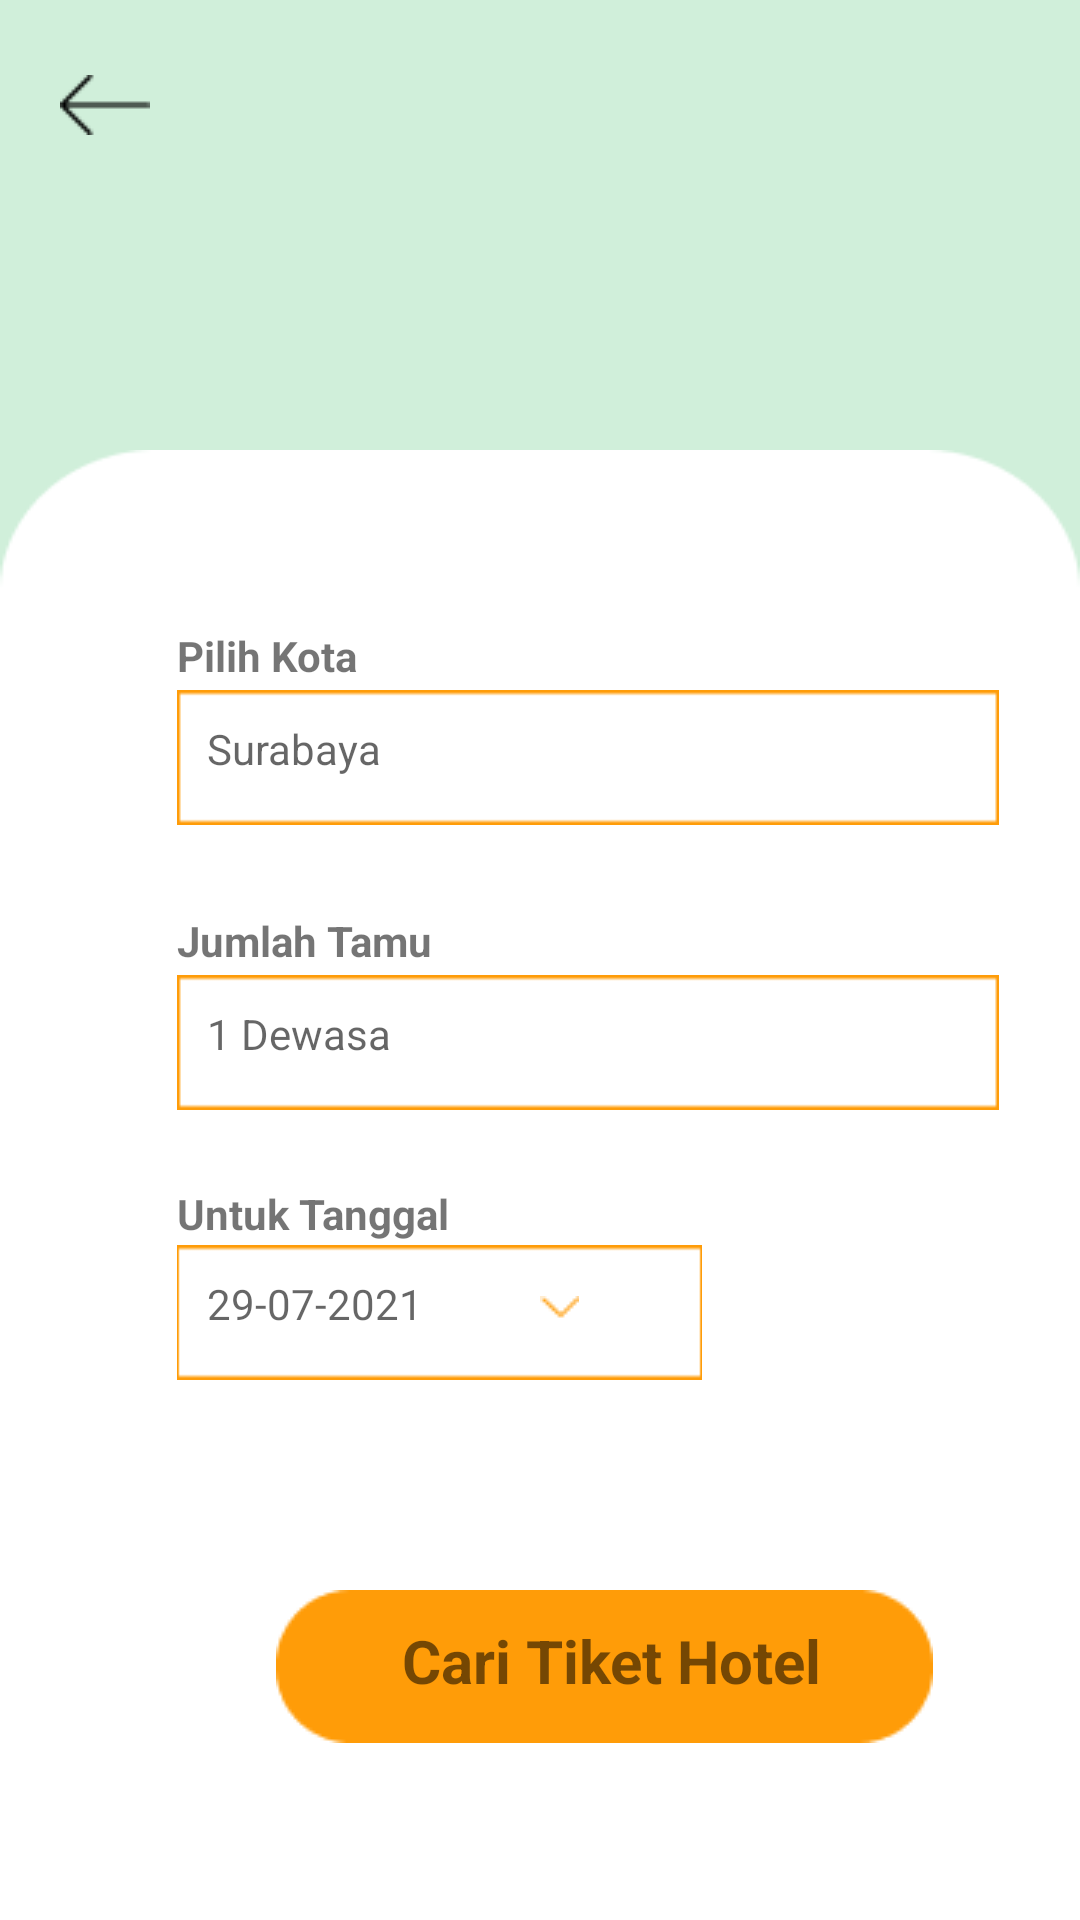

Icons on this 1080×1920 Android screen, each with the point to tap as (x,y):
panah: (105,105)
